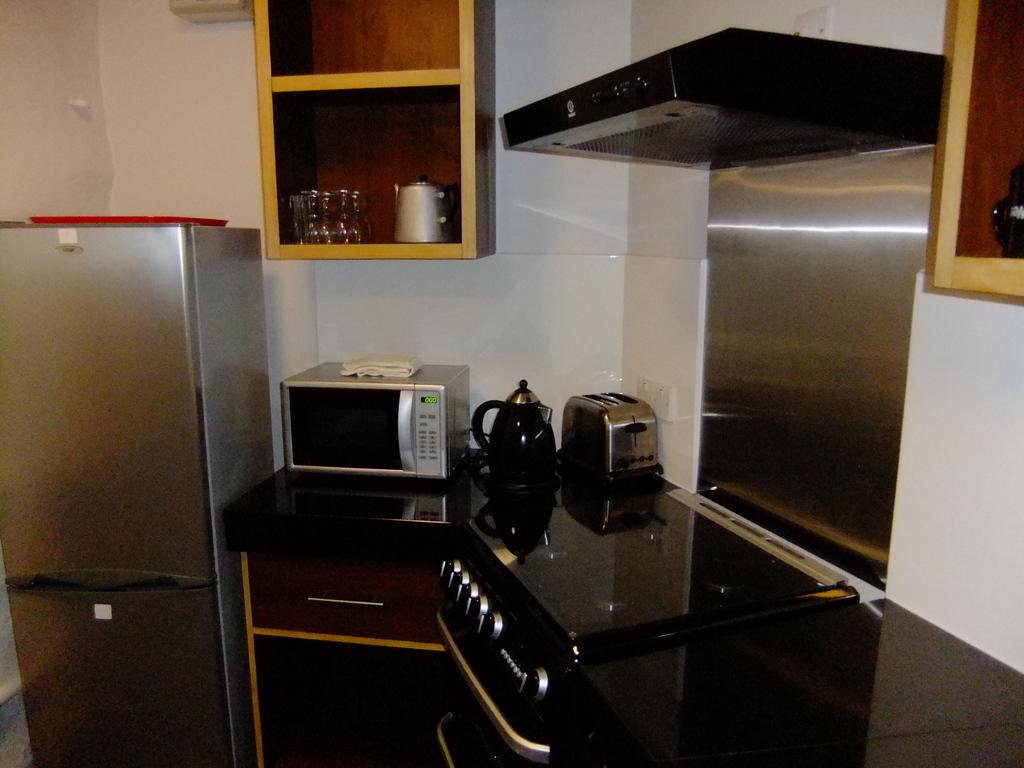cabinet_door: (264, 12, 478, 255), (267, 570, 428, 628)
handle: (43, 562, 189, 612), (307, 579, 395, 620), (392, 394, 414, 450)
